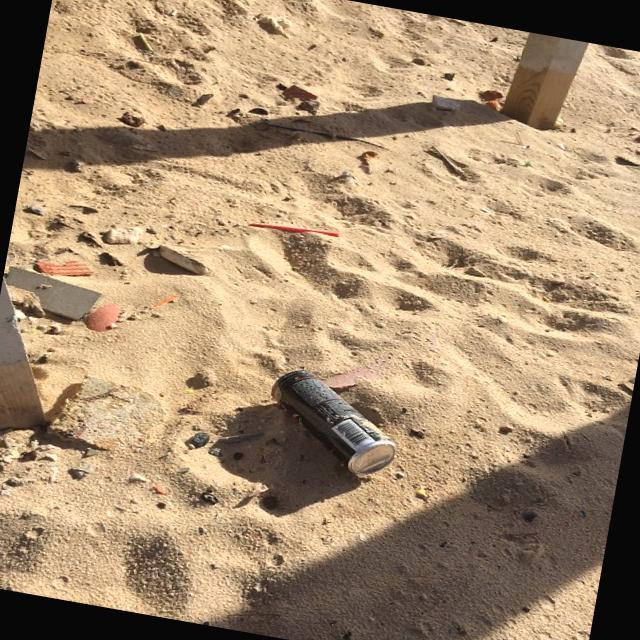Recycle: (258, 360, 417, 486)
Trash: (243, 215, 346, 243)
